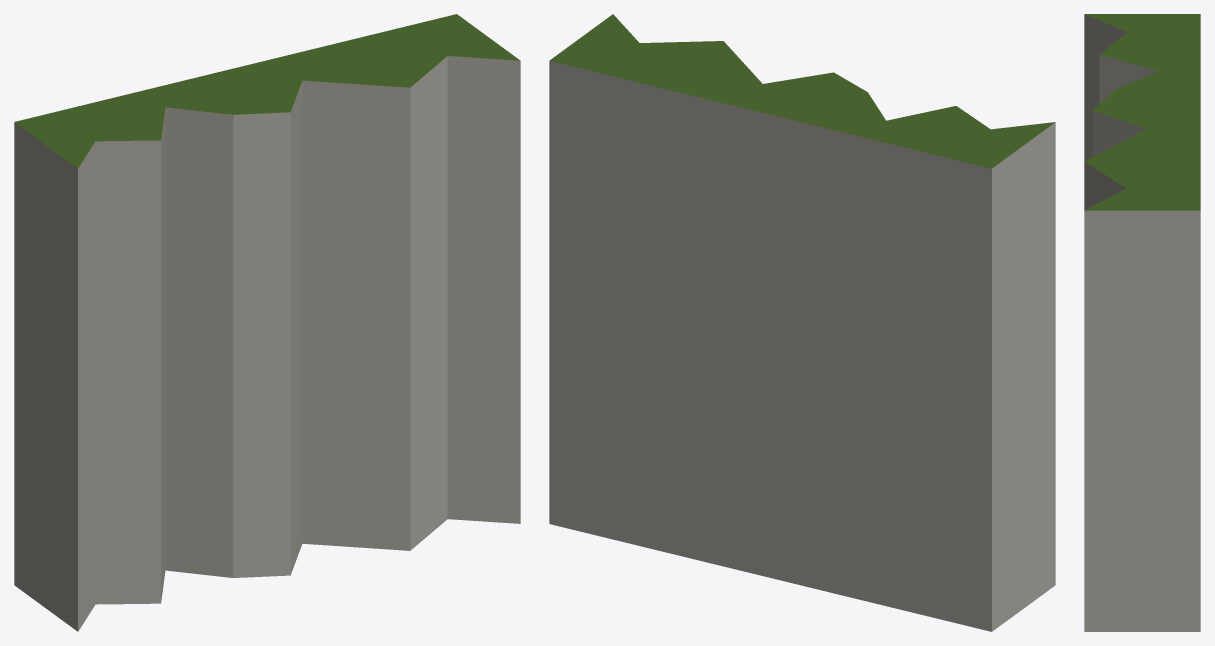
Rendered from Terrain_Tile_Grass_Rock_Cliff_Face_Straight_01.fbx.
The picture shows the model from 3 angles, left to right: view 1: azimuth 30°, elevation 25°; view 2: azimuth 150°, elevation 25°; view 3: azimuth 270°, elevation 25°; orthographic projection. The views are drawn at different scales.
Parts seen in each view (by area): view 1: Terrain_Tile_Grass_Rock_Cliff_Face_Straight_01; view 2: Terrain_Tile_Grass_Rock_Cliff_Face_Straight_01; view 3: Terrain_Tile_Grass_Rock_Cliff_Face_Straight_01.
Boxes of the visible parts, <box> form: Terrain_Tile_Grass_Rock_Cliff_Face_Straight_01: <box>14,14,520,631</box>; Terrain_Tile_Grass_Rock_Cliff_Face_Straight_01: <box>549,14,1055,631</box>; Terrain_Tile_Grass_Rock_Cliff_Face_Straight_01: <box>1084,14,1200,631</box>.
Bounding box in the file's own units: 126 × 126 × 31.5.
